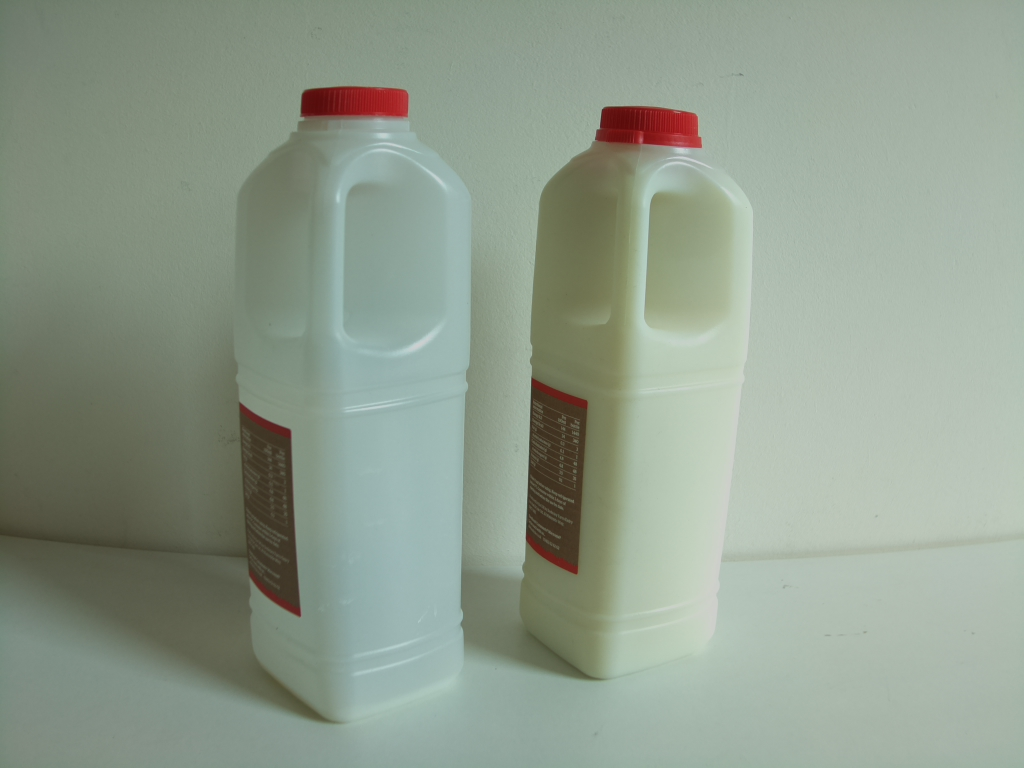milk: (233, 84, 475, 724), (522, 103, 756, 670)
